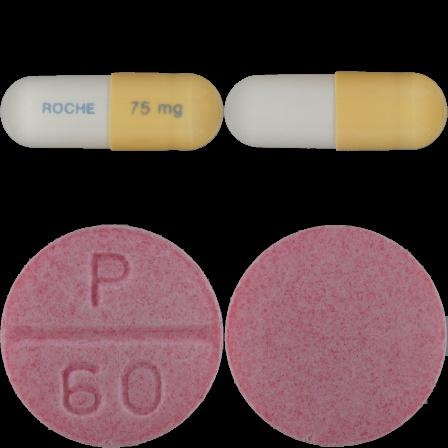42254-001: (0, 0, 224, 224)
